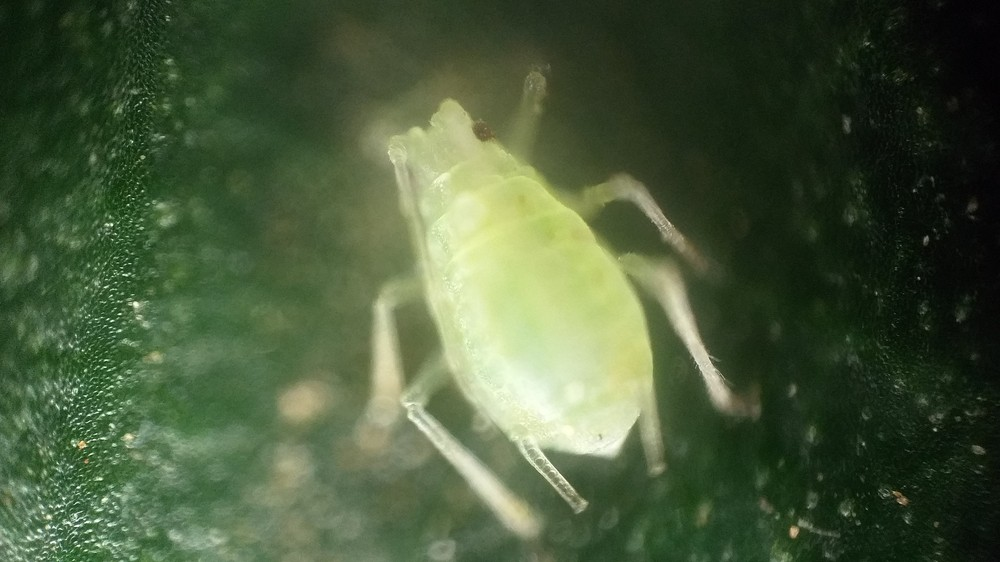Pulgon: (283, 64, 789, 552)
